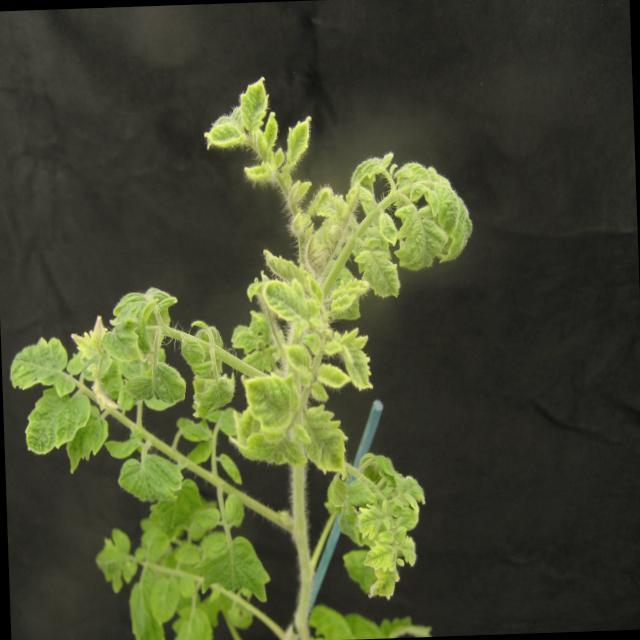Tomato yellow virus leaf: (409, 156, 473, 271), (8, 329, 78, 403), (24, 388, 93, 453), (393, 197, 448, 270), (238, 370, 300, 434), (304, 404, 352, 484), (352, 242, 400, 304), (260, 274, 316, 326), (334, 331, 378, 392), (238, 73, 274, 135), (364, 556, 401, 610), (281, 114, 313, 173), (198, 115, 245, 152), (354, 496, 393, 534), (358, 540, 396, 567)
